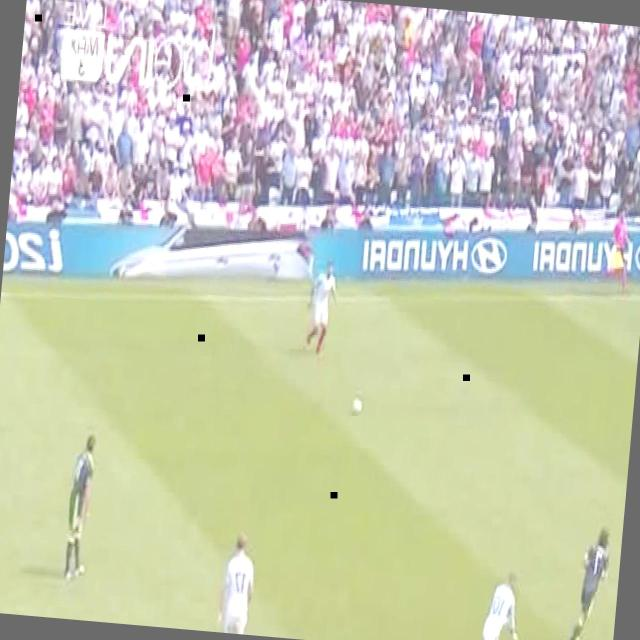ball: (352, 398, 363, 414)
player-white: (62, 434, 98, 583), (565, 526, 611, 640), (462, 567, 526, 640), (219, 530, 259, 636), (304, 257, 340, 360), (608, 210, 632, 294)
